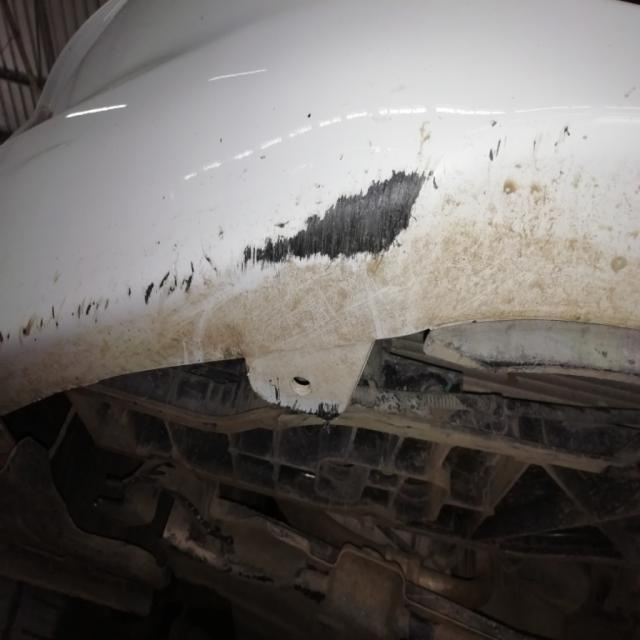damage: (0, 129, 468, 360), (477, 111, 599, 166)
